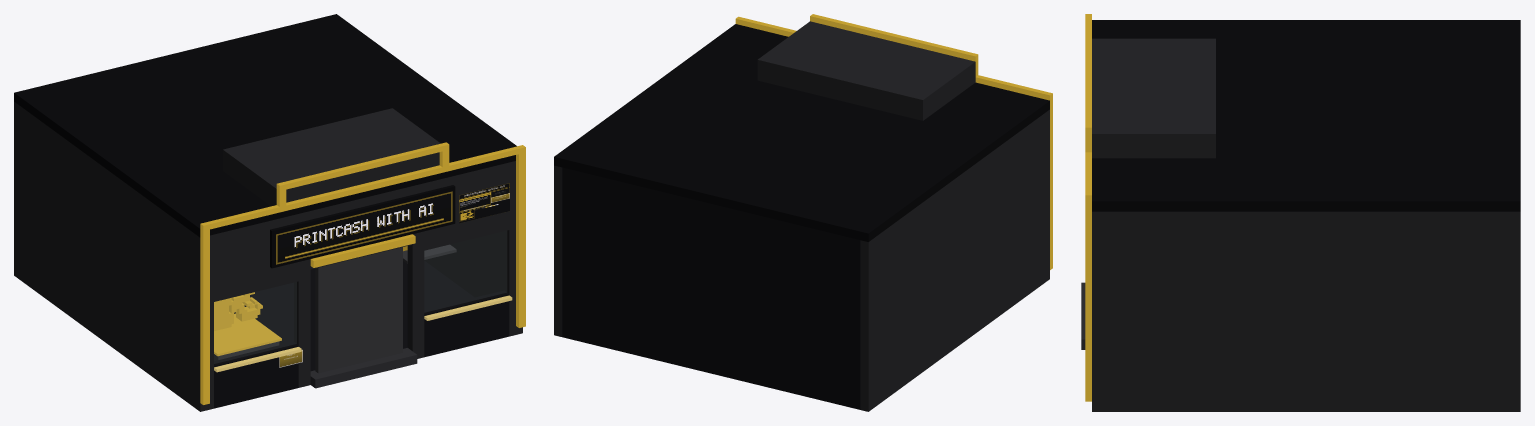
The model's file is plot.glb.
3 renders of one model, left to right at view 1: azimuth 30°, elevation 25°; view 2: azimuth 150°, elevation 25°; view 3: azimuth 270°, elevation 25°, orthographic. The views are drawn at different scales.
Parts seen in each view (by area): view 1: facade, neon, sign_1, door_panel_L, door_panel_R, pic_1, logo, lintel; view 2: facade, neon; view 3: facade, neon.
Part boxes in pixels (<box>): facade: <box>14,14,522,411</box>; neon: <box>200,142,525,404</box>; sign_1: <box>276,191,452,264</box>; door_panel_L: <box>315,257,360,373</box>; door_panel_R: <box>360,247,402,362</box>; pic_1: <box>459,183,509,223</box>; logo: <box>214,292,262,331</box>; lintel: <box>310,234,415,267</box>; facade: <box>554,21,1049,411</box>; neon: <box>735,14,1052,269</box>; facade: <box>1081,20,1520,411</box>; neon: <box>1085,14,1091,401</box>.
Bounding box in the file's own units: 9.5 × 5.9 × 9.74.
Materials: 4 (3 with a texture image).
